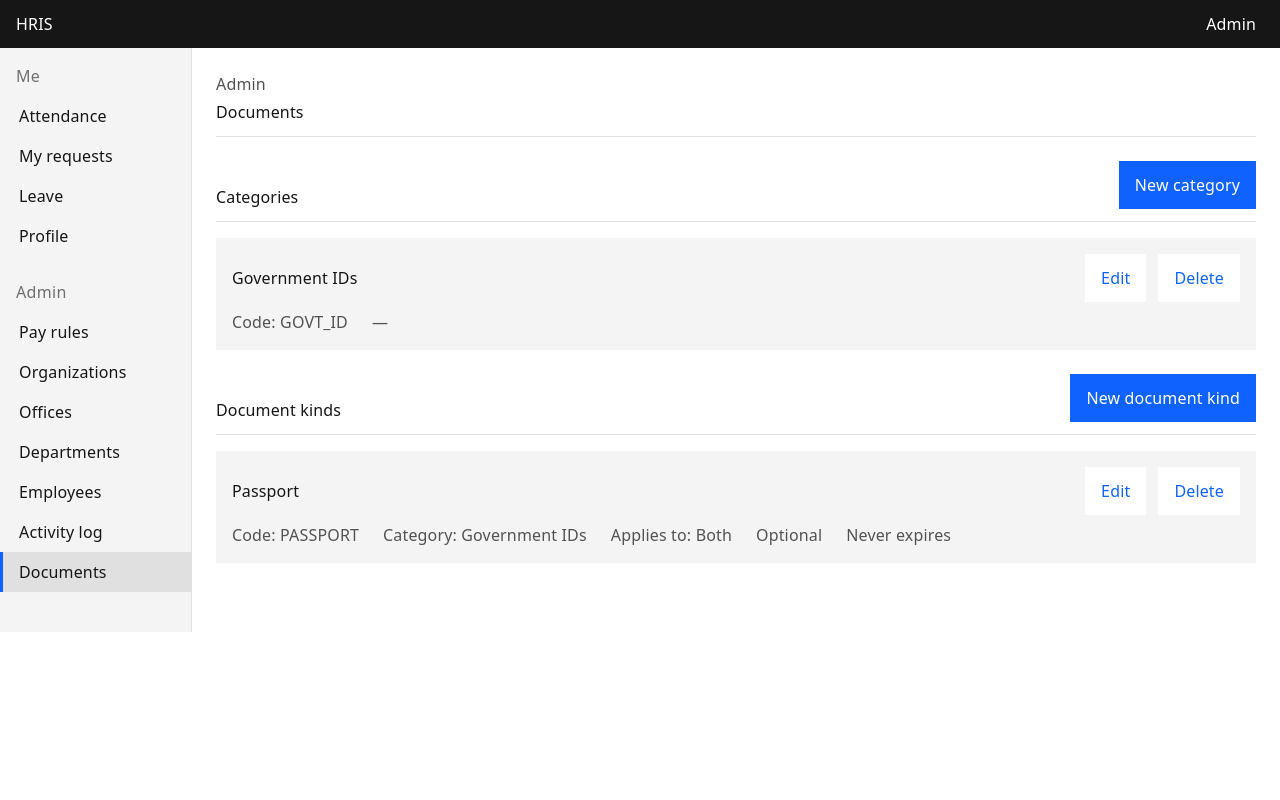
Test: /admin/documents — delete surfaces the 409 › deleting a document kind still in use renders the dependents count
Expected: the text "Passport" is shown, [232, 479, 299, 503]
The kind row's Delete is the second one — the category's comes first in the DOM.
Click the 2nd button "Delete".
click(1199, 491)  # box [1158, 467, 1240, 515]
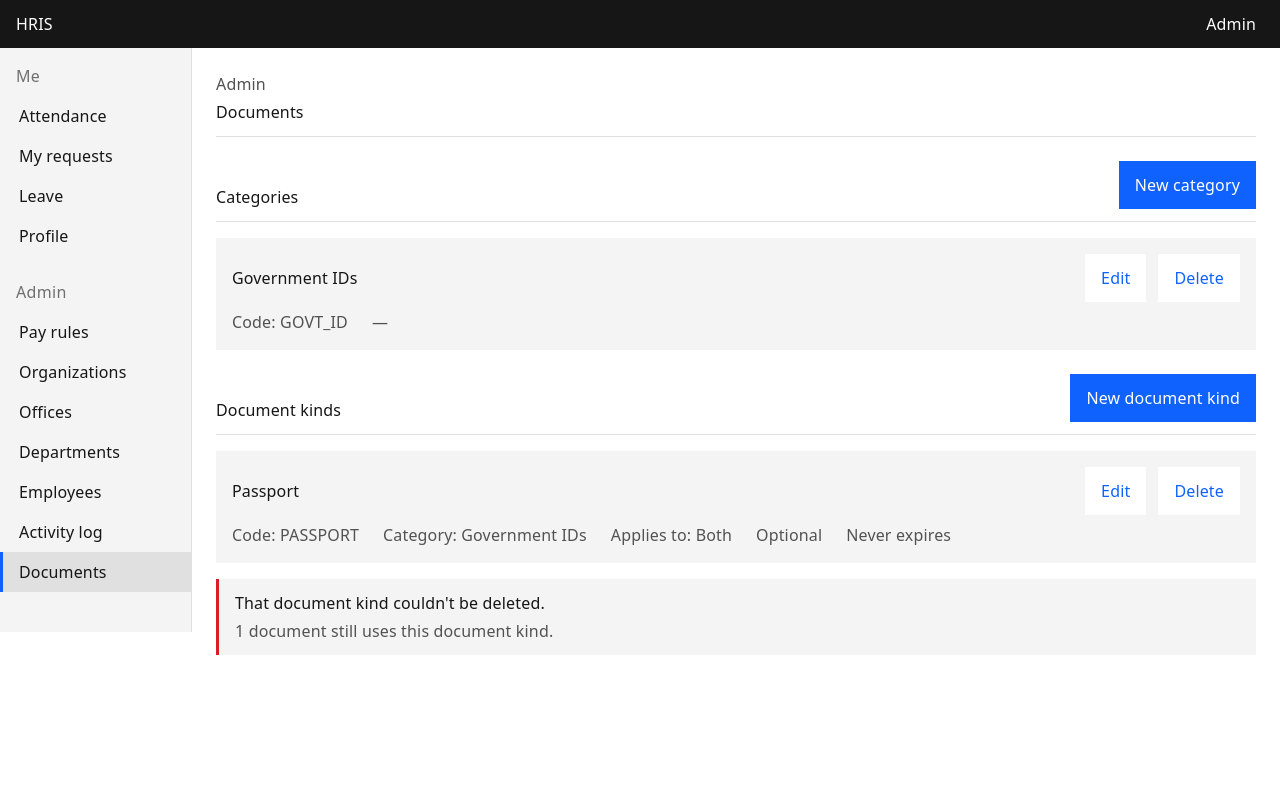
Expected: the text "1 document still uses this document kind." is shown, [235, 620, 553, 642]
